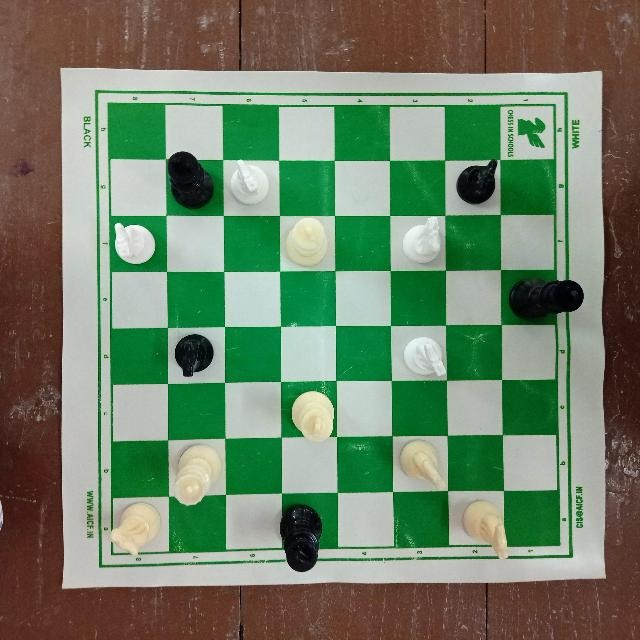black-king: (509, 268, 586, 323), (278, 499, 330, 574), (162, 149, 216, 211)
black-knight: (168, 331, 222, 381), (456, 153, 498, 211)
white-king: (287, 388, 339, 444), (284, 214, 331, 270)
white-knight: (104, 503, 164, 562), (460, 497, 507, 563), (226, 157, 274, 214), (400, 438, 448, 494), (400, 331, 452, 381), (401, 216, 445, 270), (110, 221, 157, 265)
white-queen: (168, 439, 224, 504)
